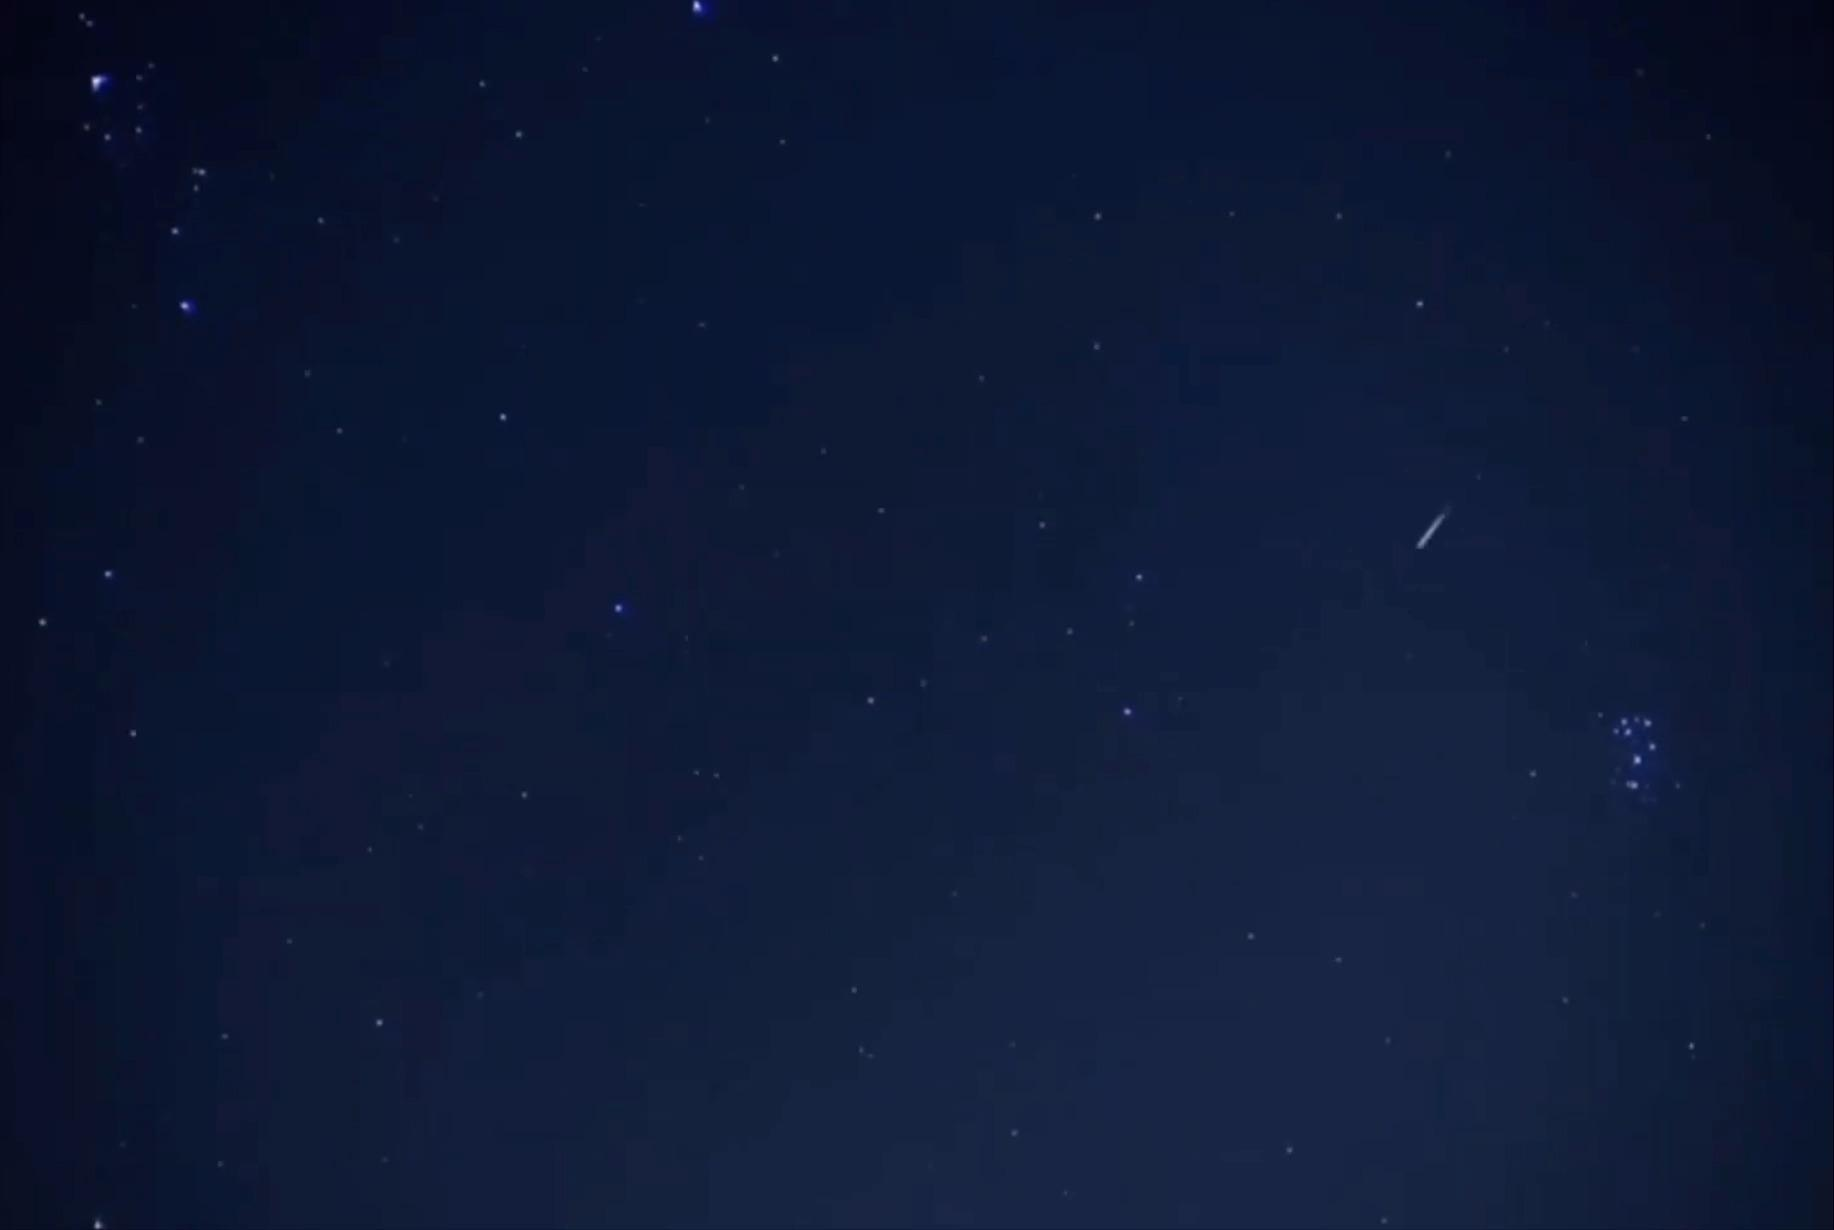meteorite: (1385, 485, 1476, 571)
